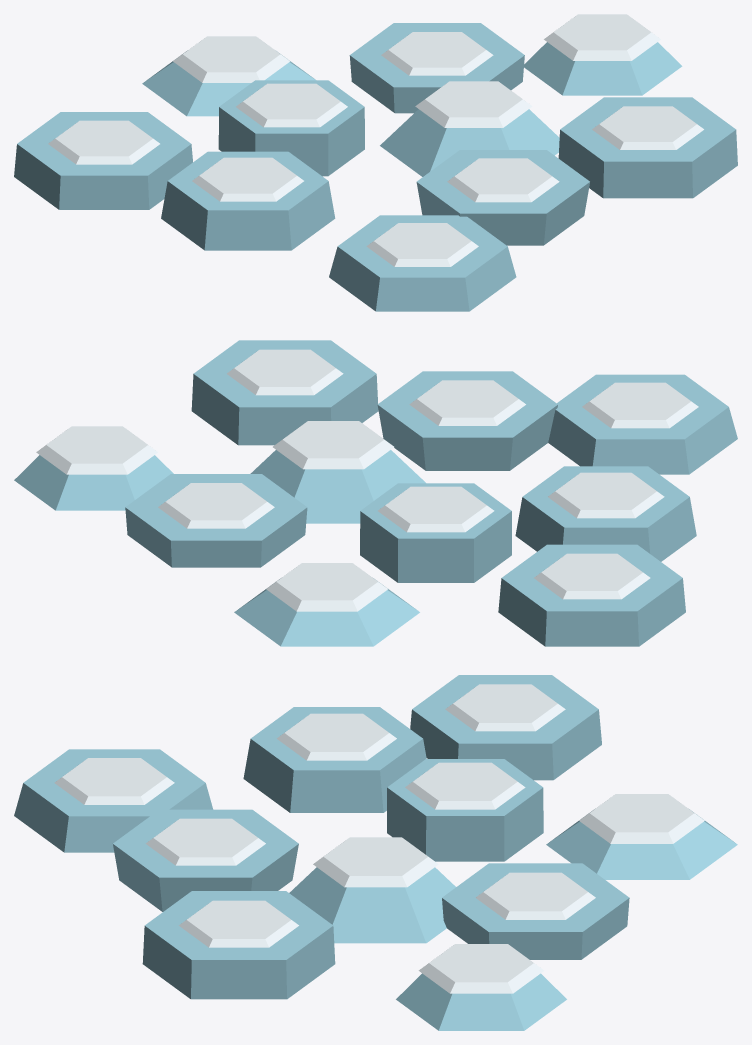
Rendered from FEATURE_ICE_v02.fbx.
The picture shows the model from 3 angles, top to bottom: view 1: azimuth 30°, elevation 25°; view 2: azimuth 150°, elevation 25°; view 3: azimuth 270°, elevation 25°; orthographic projection. The views are drawn at different scales.
Visible parts, largest first — view 1: Ice_floe.025, Ice_floe.027, Ice_floe.024, Ice_floe.029, Ice_floe.022, Ice_floe.023, Ice_floe.021, Ice_floe.020, Ice_floe.028, Snow_cap.020, Snow_cap.028, Snow_cap.026 (+8 smaller); view 2: Ice_floe.029, Ice_floe.025, Ice_floe.027, Ice_floe.022, Ice_floe.023, Ice_floe.021, Ice_floe.024, Ice_floe.026, Ice_floe.020, Ice_floe.028, Snow_cap.026, Snow_cap.020 (+8 smaller); view 3: Ice_floe.025, Ice_floe.024, Ice_floe.029, Ice_floe.023, Ice_floe.027, Ice_floe.022, Ice_floe.021, Ice_floe.020, Ice_floe.026, Ice_floe.028, Snow_cap.020, Snow_cap.028 (+8 smaller).
Part boxes in pixels (x1,y1,x2,y2): Ice_floe.025: (558,97,737,198); Ice_floe.027: (329,215,516,311); Ice_floe.024: (161,151,335,250); Ice_floe.029: (14,112,192,209); Ice_floe.022: (416,150,589,245); Ice_floe.023: (349,23,524,113); Ice_floe.021: (218,80,364,176); Ice_floe.020: (380,109,559,176); Ice_floe.028: (524,42,682,95); Snow_cap.020: (415,81,532,127); Snow_cap.028: (544,14,660,60); Snow_cap.026: (173,36,289,82); Ice_floe.029: (498,544,685,646); Ice_floe.025: (191,340,378,445); Ice_floe.027: (548,374,737,474); Ice_floe.022: (377,371,557,470); Ice_floe.023: (125,474,307,567); Ice_floe.021: (360,483,511,582); Ice_floe.024: (515,466,696,561); Ice_floe.026: (234,578,419,646); Ice_floe.020: (250,450,425,523); Ice_floe.028: (14,455,173,510); Snow_cap.026: (266,563,387,611); Snow_cap.020: (273,421,393,469); Ice_floe.025: (142,891,335,999); Ice_floe.024: (243,707,426,812); Ice_floe.029: (410,675,601,780); Ice_floe.023: (442,863,629,959); Ice_floe.027: (14,749,213,852); Ice_floe.022: (113,809,298,911); Ice_floe.021: (387,759,543,861); Ice_floe.020: (289,867,455,943); Ice_floe.026: (546,809,737,879); Ice_floe.028: (396,973,566,1030); Snow_cap.020: (313,837,438,887); Snow_cap.028: (418,944,544,993).
Bounding box in the file's own units: 145 × 10.8 × 138.
